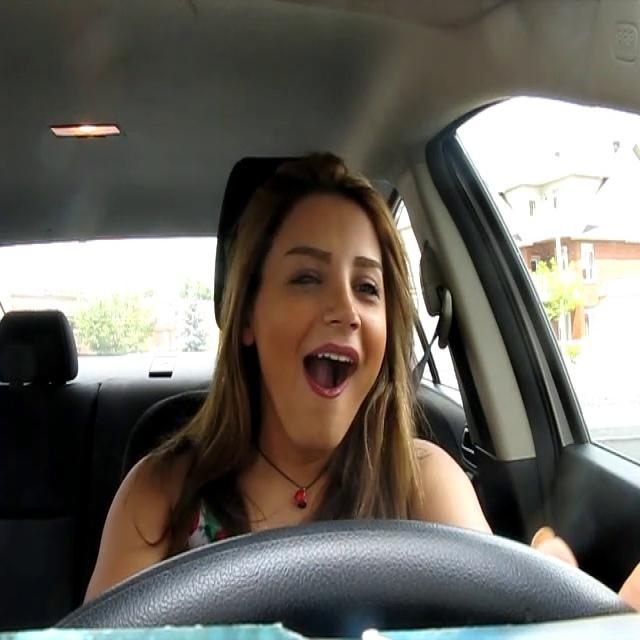yawn: (302, 340, 361, 402)
